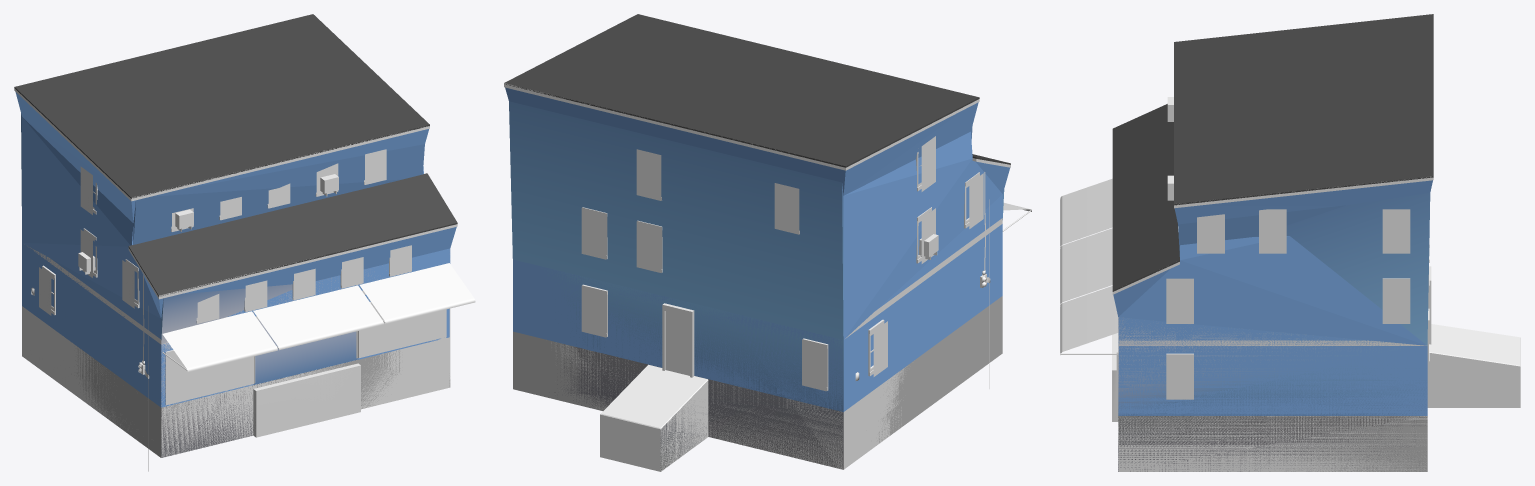
Rendered from eca_bld_shop_town_b.dae.
3 views of the same model, side by side, from view 1: azimuth 30°, elevation 25°; view 2: azimuth 150°, elevation 25°; view 3: azimuth 270°, elevation 25° (orthographic). The views are drawn at different scales.
Visible parts, largest first — view 1: eca_bld_shop_town_b_a100, eca_bld_shop_town_b_a550, Colmesh-1, eca_bld_shop_town_b_a15; view 2: eca_bld_shop_town_b_a100, eca_bld_shop_town_b_a15, eca_bld_shop_town_b_a550, Colmesh-1; view 3: eca_bld_shop_town_b_a100, eca_bld_shop_town_b_a550, Colmesh-1, eca_bld_shop_town_b_a15.
Part boxes in pixels (bbox=[...]): eca_bld_shop_town_b_a100: bbox=[15, 14, 457, 457]; eca_bld_shop_town_b_a550: bbox=[14, 87, 475, 471]; Colmesh-1: bbox=[15, 92, 456, 457]; eca_bld_shop_town_b_a15: bbox=[21, 113, 424, 457]; eca_bld_shop_town_b_a100: bbox=[504, 14, 1031, 471]; eca_bld_shop_town_b_a15: bbox=[509, 101, 1004, 471]; eca_bld_shop_town_b_a550: bbox=[504, 84, 1031, 471]; Colmesh-1: bbox=[505, 87, 1009, 469]; eca_bld_shop_town_b_a100: bbox=[1060, 14, 1520, 471]; eca_bld_shop_town_b_a550: bbox=[1060, 97, 1520, 471]; Colmesh-1: bbox=[1112, 180, 1432, 471]; eca_bld_shop_town_b_a15: bbox=[1118, 193, 1430, 471].
Size of the model in its own units: 12.59 by 14.87 by 11.54.
